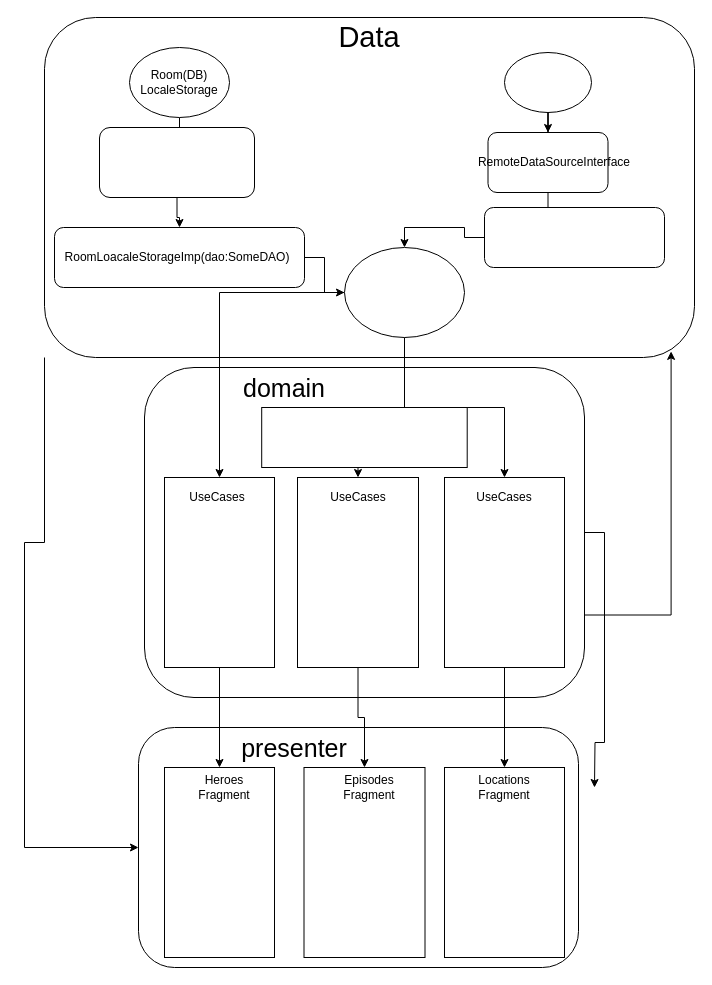
Some shapes in this 712 by 985 pixel diagram are drawn without their labels. Here are the shapes that lost their labels. From the top down, the box of each, then its label:
(504, 52, 592, 112): Retrofit (RemoteAPI)
(98, 126, 254, 198): LocaleStorageInterface{ fun getData() fun setData(data: Entity}
(484, 206, 664, 268): RetrofitRemoteDataSourceImp
(344, 246, 464, 338): RepositoryImp
(261, 406, 467, 468): RepositoryInterface
